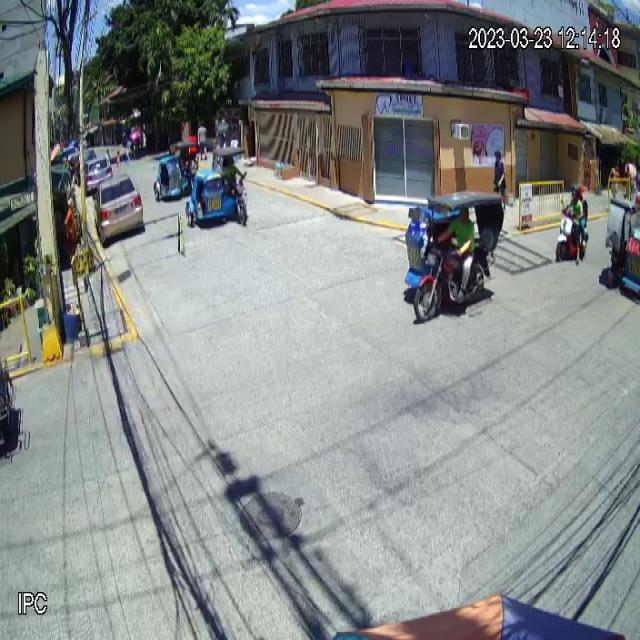Car: (92, 173, 144, 244)
Tricycle: (404, 190, 504, 322), (185, 147, 249, 229)
